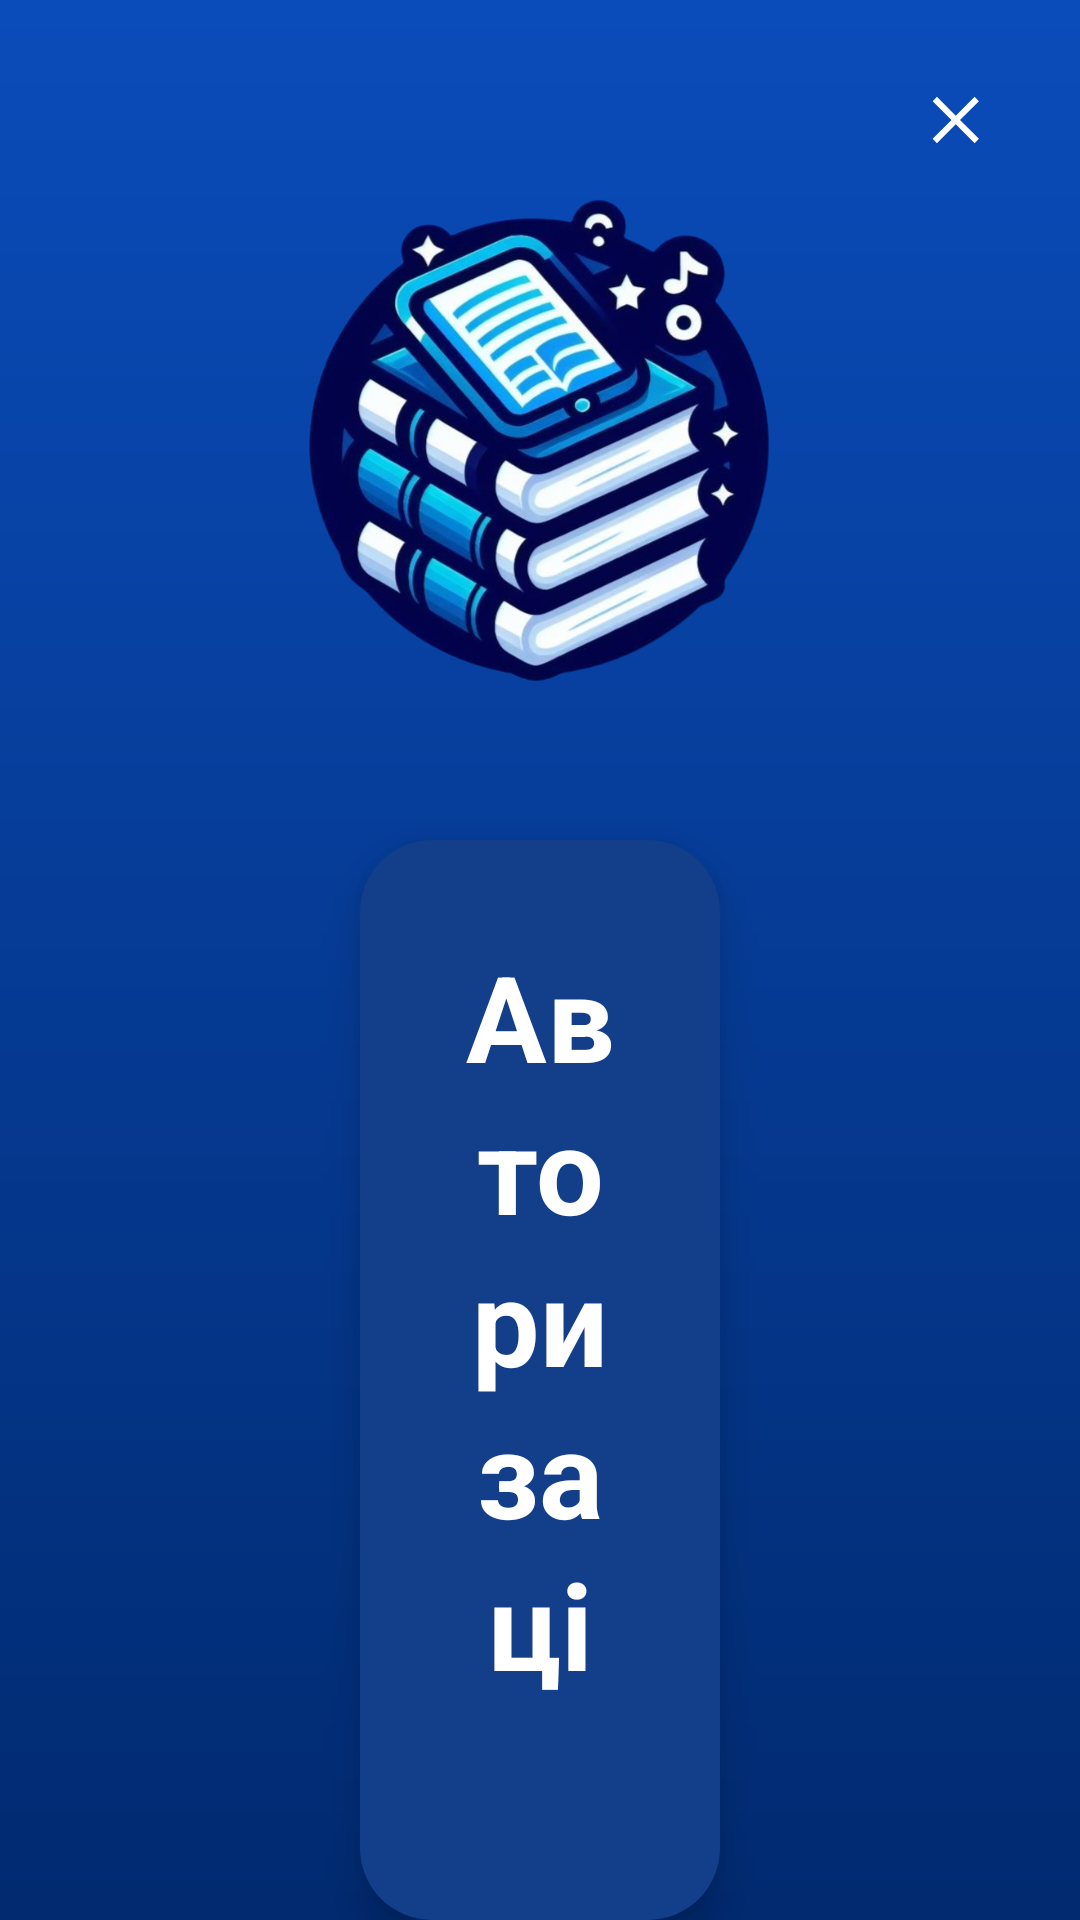

Where to tap for icons on this 1080px×1920px app screen, as (x,y):
Закрити: (955,120)
